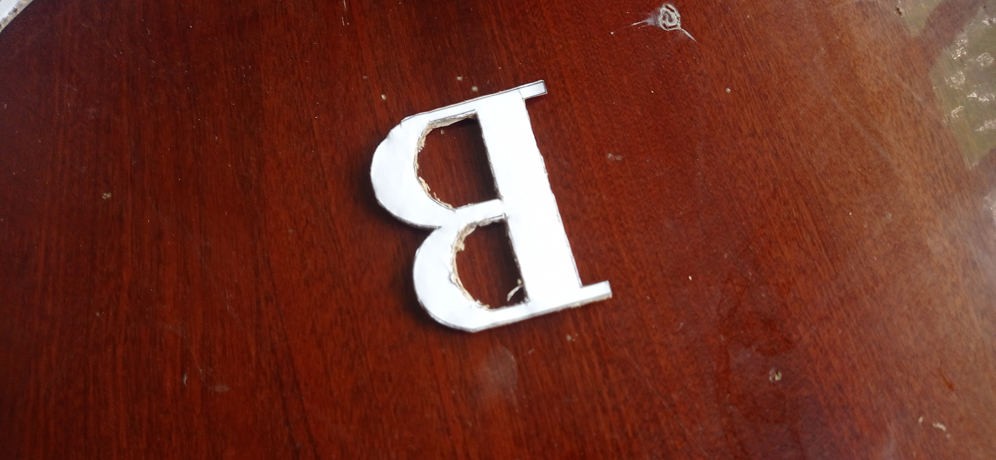v: (368, 79, 614, 334)
